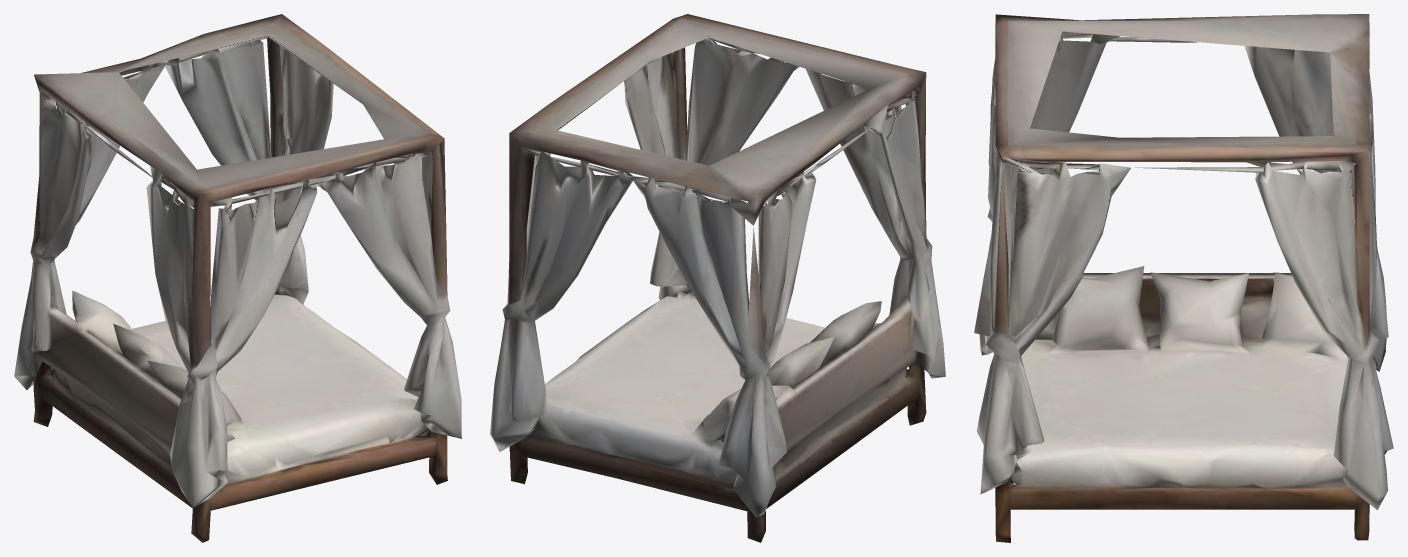
The model's file is cabana.glb.
3 views of the same model, side by side, from view 1: azimuth 30°, elevation 25°; view 2: azimuth 150°, elevation 25°; view 3: azimuth 270°, elevation 25° (orthographic). The views are drawn at different scales.
Parts seen in each view (by area): view 1: tripo_node_5af847d2-8d34-45dc-85ec-3c9cab1b8b3a; view 2: tripo_node_5af847d2-8d34-45dc-85ec-3c9cab1b8b3a; view 3: tripo_node_5af847d2-8d34-45dc-85ec-3c9cab1b8b3a.
Part boxes in pixels (<box>): tripo_node_5af847d2-8d34-45dc-85ec-3c9cab1b8b3a: <box>14,14,461,542</box>; tripo_node_5af847d2-8d34-45dc-85ec-3c9cab1b8b3a: <box>490,14,945,542</box>; tripo_node_5af847d2-8d34-45dc-85ec-3c9cab1b8b3a: <box>974,14,1393,542</box>.
Bounding box in the file's own units: 0.8475 × 1 × 0.9622.
Materials: 1 (1 with a texture image).
